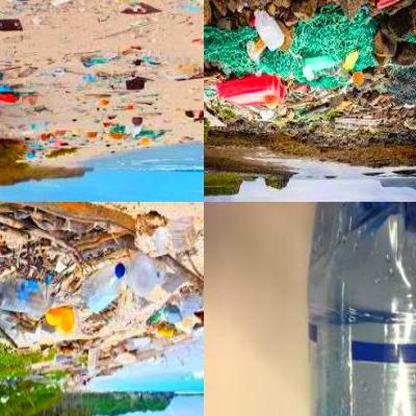plastic bottle: (310, 204, 416, 416), (72, 263, 126, 314), (254, 9, 284, 52)
